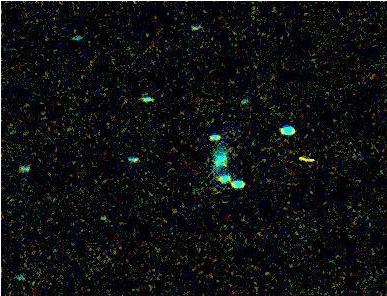star: (294, 153, 324, 183)
